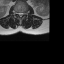CCS_normal: (19, 10, 21, 20)
LFS_stenosis: (23, 11, 25, 16)
LLS_normal: (21, 10, 23, 17)
RFS_stenosis: (16, 10, 17, 16)
RLS_normal: (18, 11, 19, 17)
